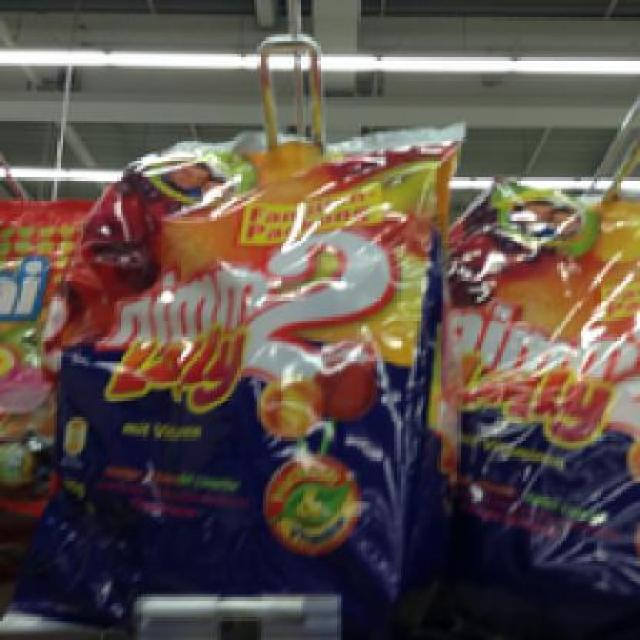Candy: (88, 140, 446, 563), (417, 152, 637, 574)
